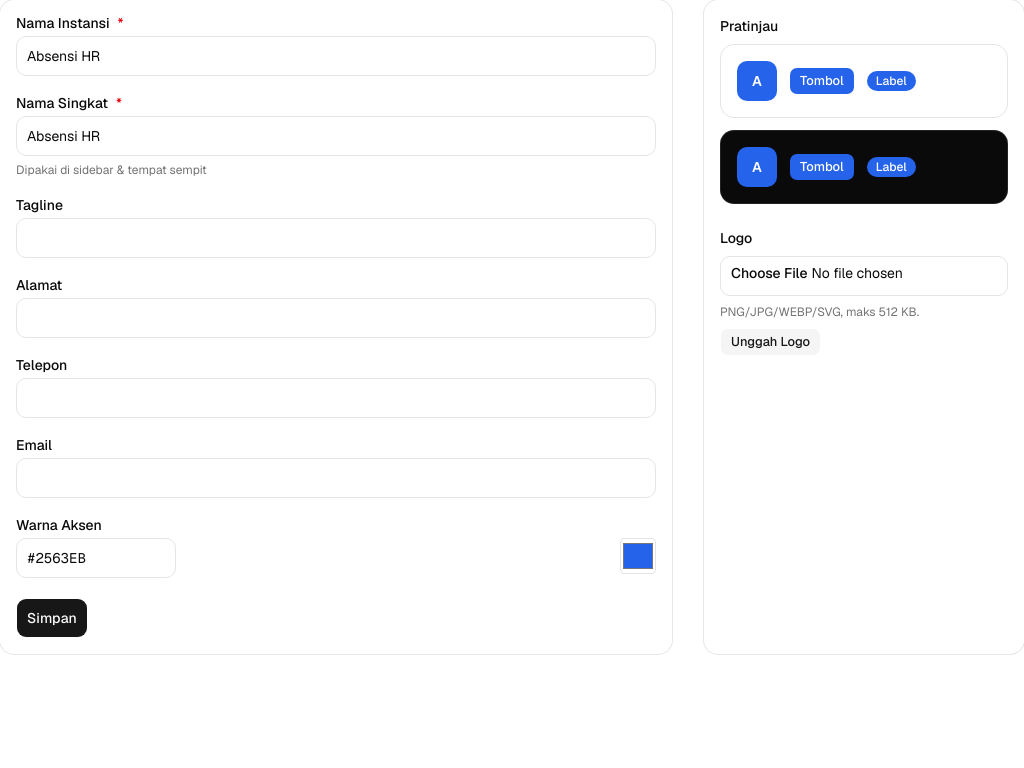
it: InstansiForm › shows a contrast warning for a low-contrast accent
The image size is (1024, 768).
Replace the text in the field labelled "Warna Aksen" with "#787878": coordinates (96, 558) [16,538,176,578]
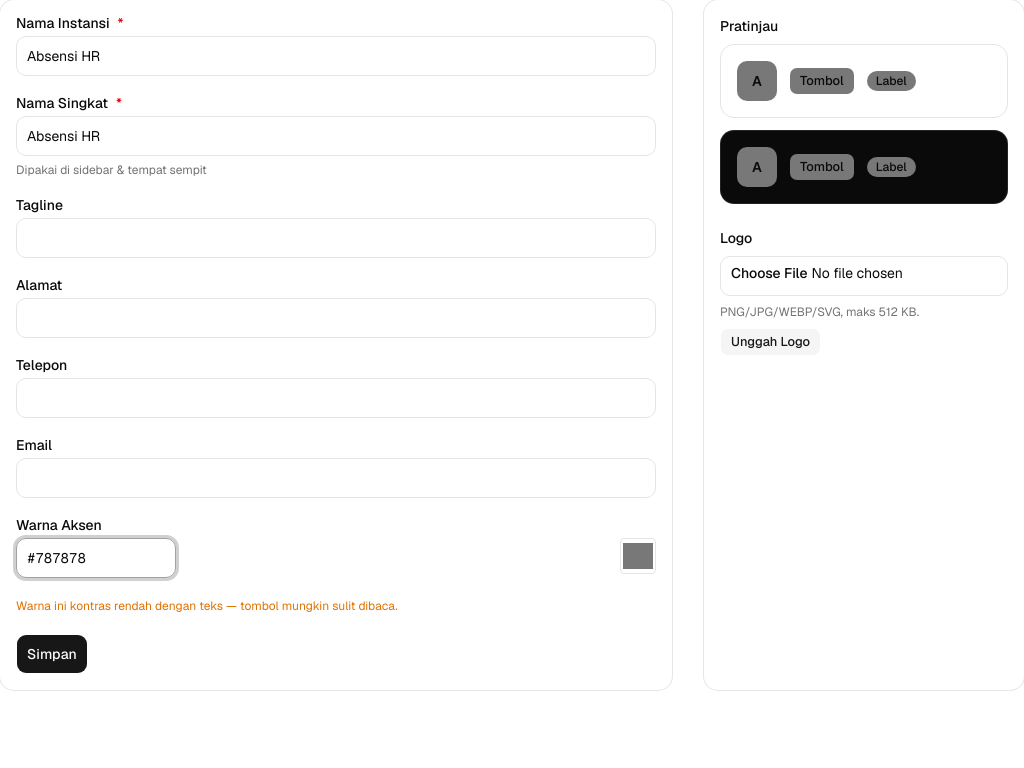
Expected: the text "Warna ini kontras rendah dengan teks — tombol mungkin sulit dibaca." is shown, [16,598,398,614]
